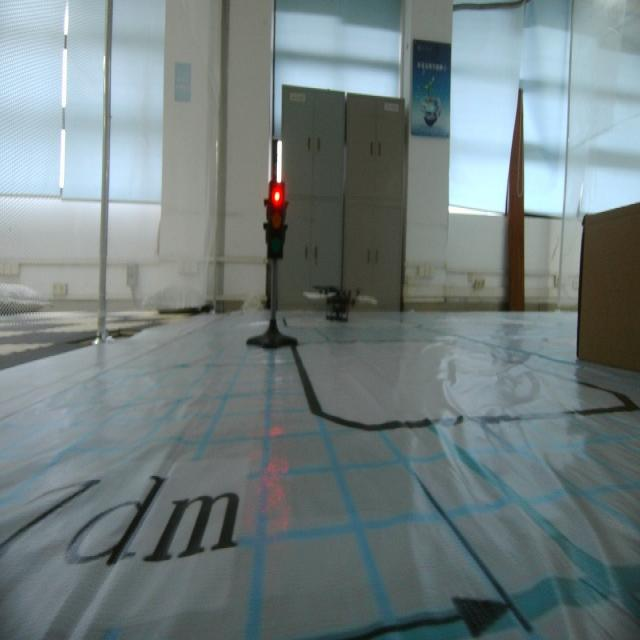red: (261, 179, 289, 268)
